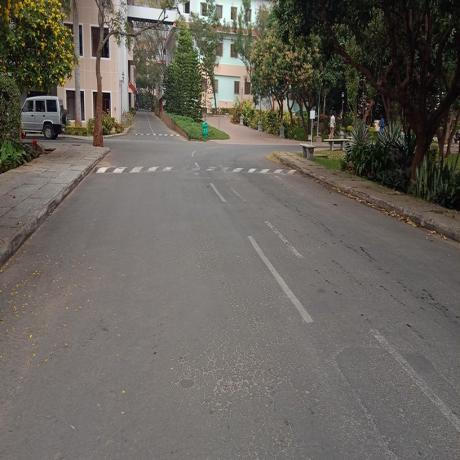Speed Bump: (94, 162, 298, 180)
